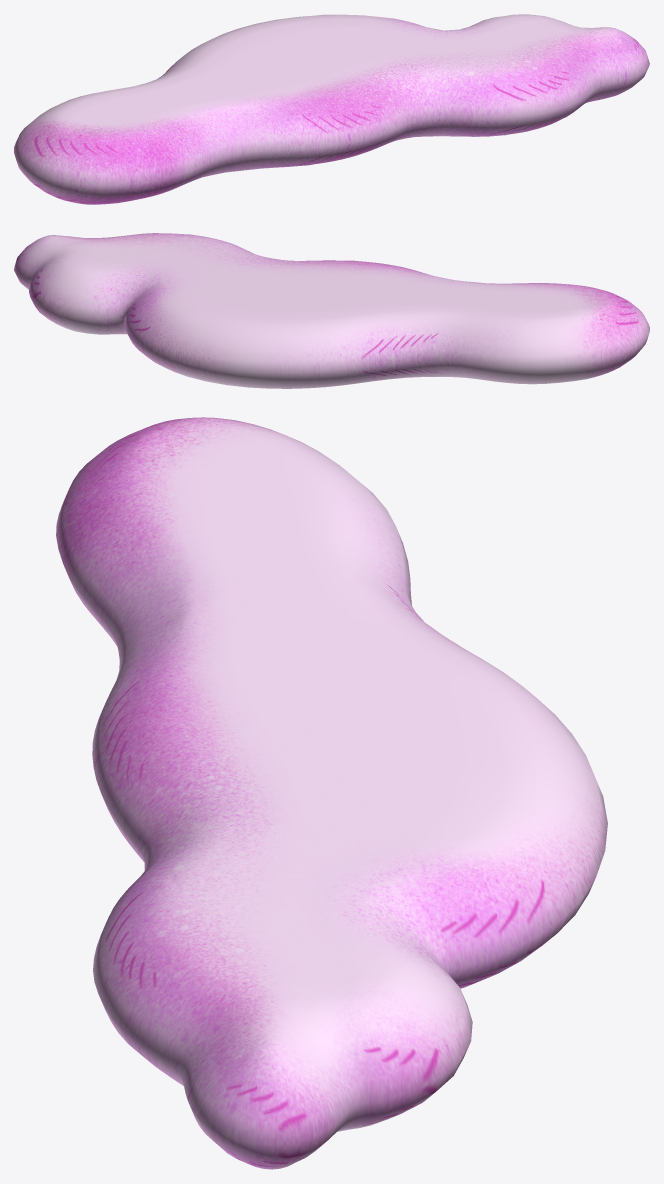
File: Cloud_B004.obj
3 views of the same model, one above another, from view 1: azimuth 30°, elevation 25°; view 2: azimuth 150°, elevation 25°; view 3: azimuth 270°, elevation 25° (orthographic). The views are drawn at different scales.
Parts seen in each view (by area): view 1: Cloud_B004; view 2: Cloud_B004; view 3: Cloud_B004.
Part boxes in pixels (x1=…): Cloud_B004: x1=14, y1=14, x2=649, y2=204; Cloud_B004: x1=14, y1=233, x2=649, y2=388; Cloud_B004: x1=56, y1=417, x2=607, y2=1169.
Size of the model in its own units: 1.56 by 0.2771 by 0.6153.
Materials: 1 (1 with a texture image).
